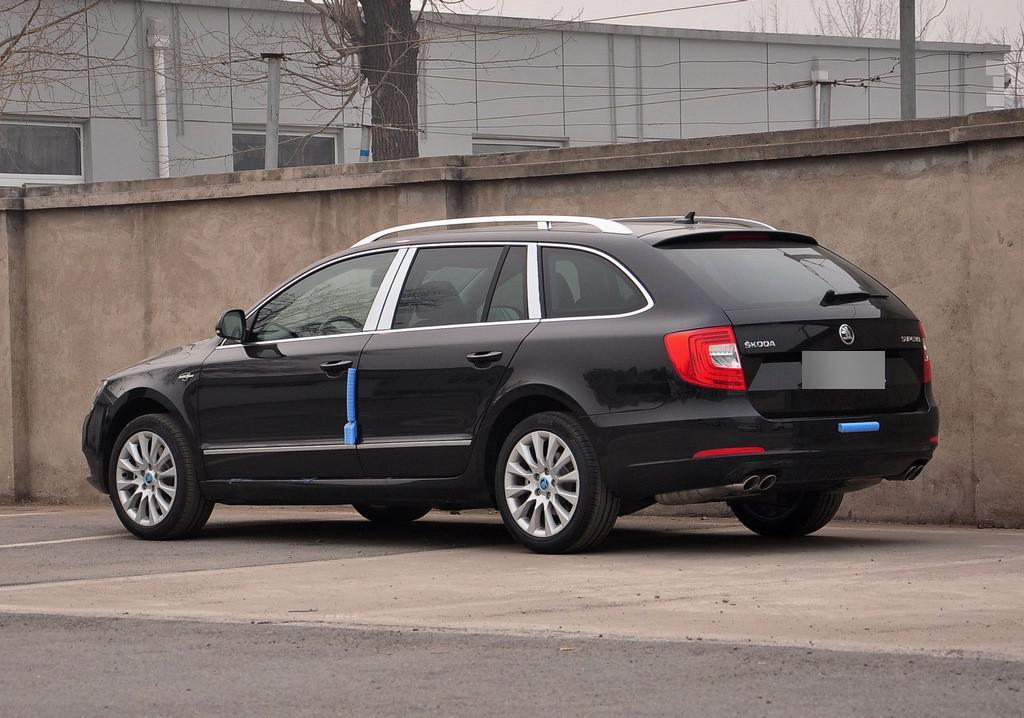Wagon: (78, 214, 936, 554)
